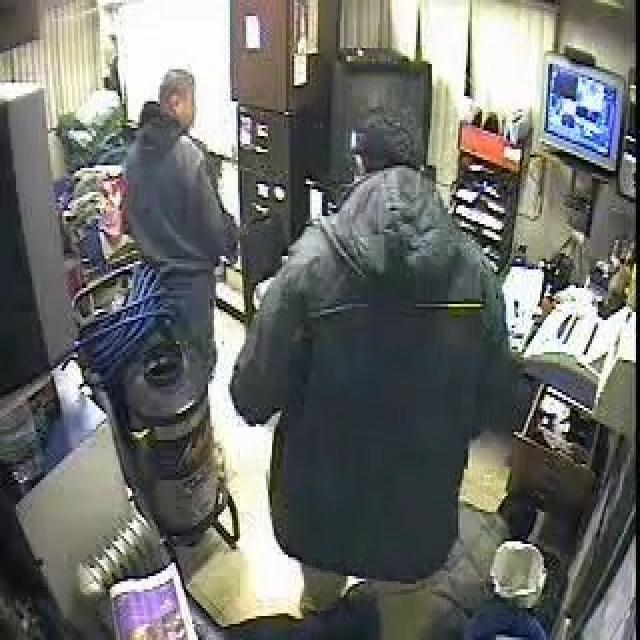Shoplifting: (150, 57, 518, 534)
